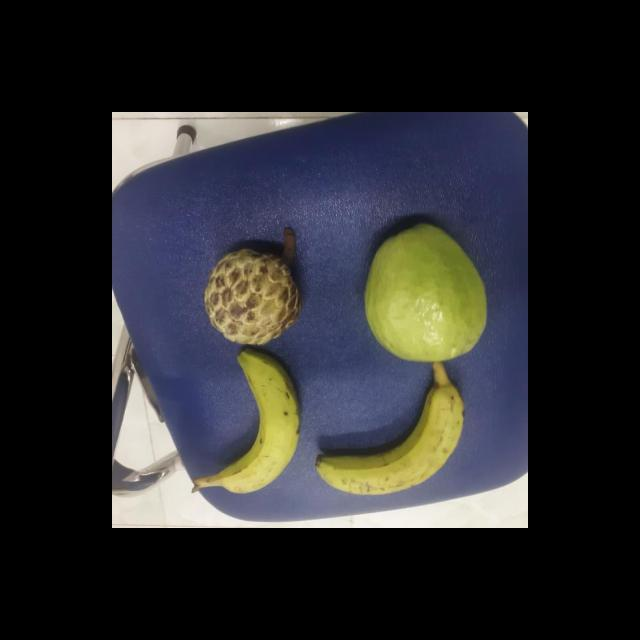Sakya fruit: (202, 246, 302, 348)
banana: (310, 371, 470, 493), (202, 347, 303, 500)
guava: (352, 222, 492, 366)
